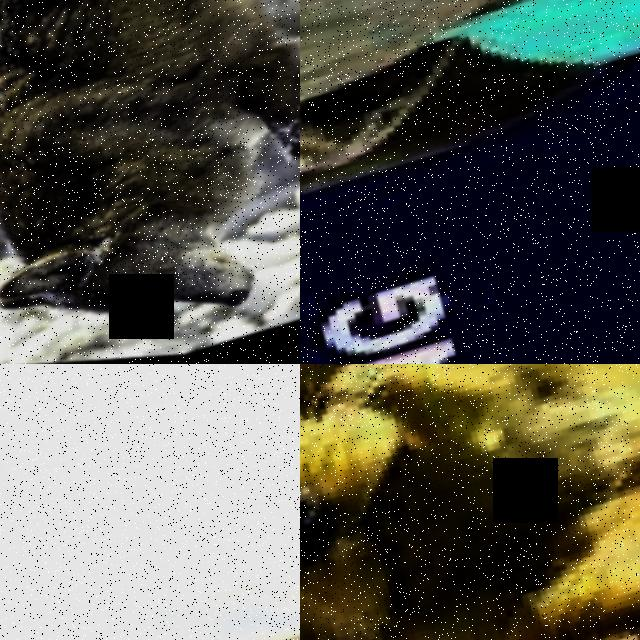dog: (300, 0, 640, 276), (300, 364, 640, 640), (349, 364, 640, 640), (0, 456, 300, 640)
wolf: (0, 0, 300, 364)
